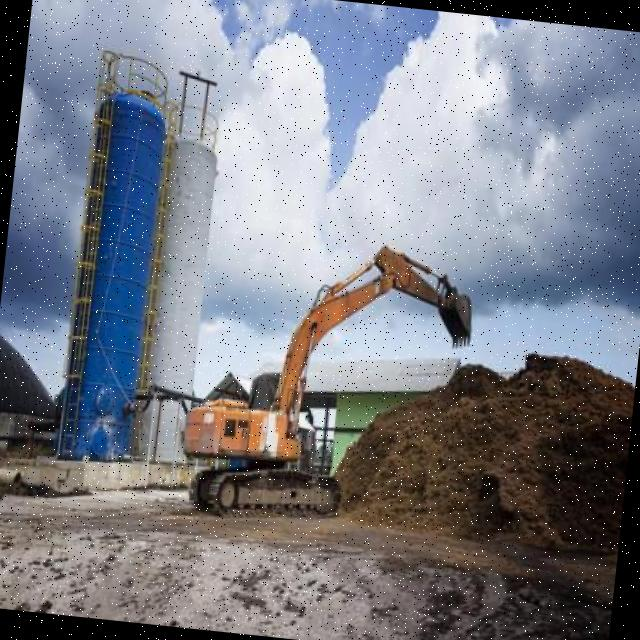Excavator: (163, 222, 483, 539)
